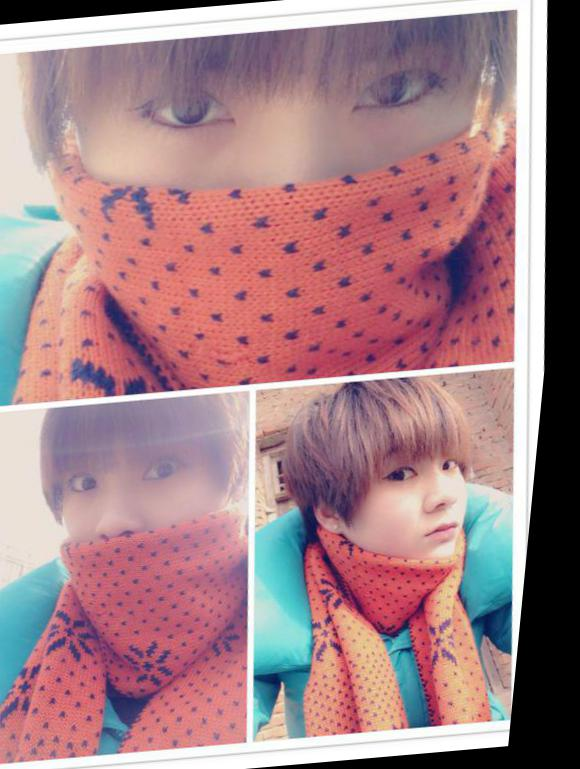NONE: (346, 440, 488, 565)
OK: (54, 11, 495, 421)
WRONG: (40, 421, 261, 626)
